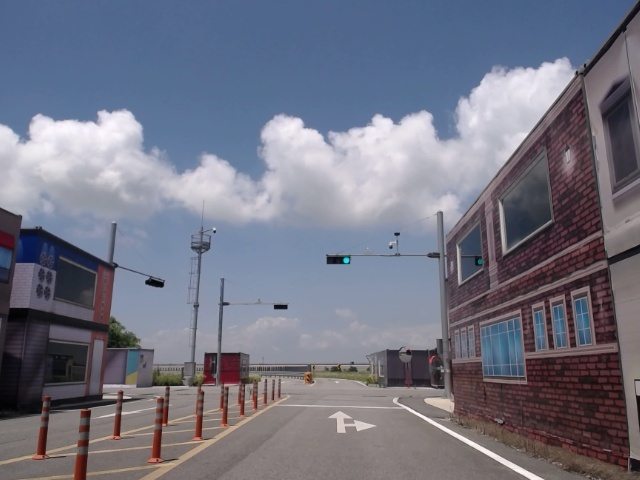green_3: (327, 256, 351, 264)
